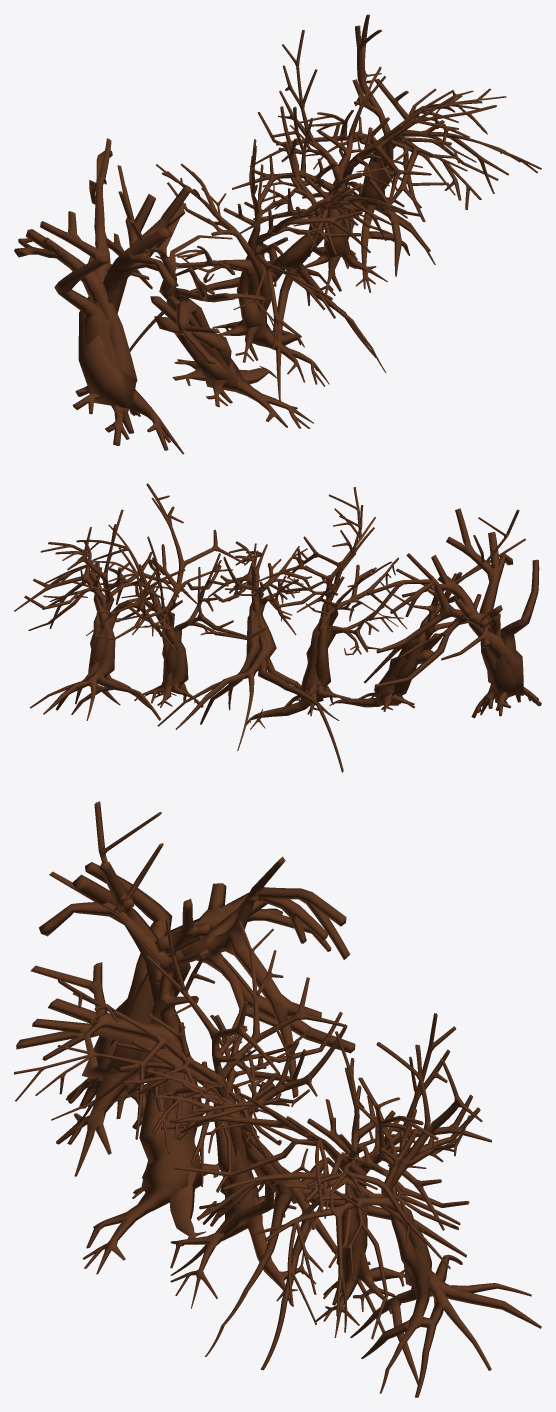
Rendered from Arvores.fbx.
3 views of the same model, one above another, from view 1: azimuth 30°, elevation 25°; view 2: azimuth 150°, elevation 25°; view 3: azimuth 270°, elevation 25° (orthographic). The views are drawn at different scales.
Parts seen in each view (by area): view 1: Vert.004, Vert.001, Vert, Vert.002, Vert.005, Vert.003; view 2: Vert.004, Vert.002, Vert, Vert.001, Vert.003, Vert.005; view 3: Vert.004, Vert.002, Vert.001, Vert.005, Vert, Vert.003.
Boxes of the visible parts, x1,y1,x2,y2 form: Vert.004: [14, 138, 191, 454]; Vert.001: [155, 139, 370, 386]; Vert: [232, 30, 496, 295]; Vert.002: [249, 14, 541, 289]; Vert.005: [117, 165, 313, 428]; Vert.003: [129, 106, 407, 400]; Vert.004: [364, 508, 541, 718]; Vert.002: [14, 509, 197, 720]; Vert: [76, 483, 266, 707]; Vert.001: [246, 487, 407, 729]; Vert.003: [157, 541, 343, 772]; Vert.005: [329, 509, 525, 711]; Vert.004: [39, 856, 355, 1176]; Vert.002: [197, 1042, 541, 1397]; Vert.001: [14, 919, 344, 1308]; Vert.005: [16, 801, 220, 1274]; Vert: [169, 1013, 491, 1337]; Vert.003: [123, 1024, 466, 1370].
Bounding box in the file's own units: 3136 × 1631 × 2088.
